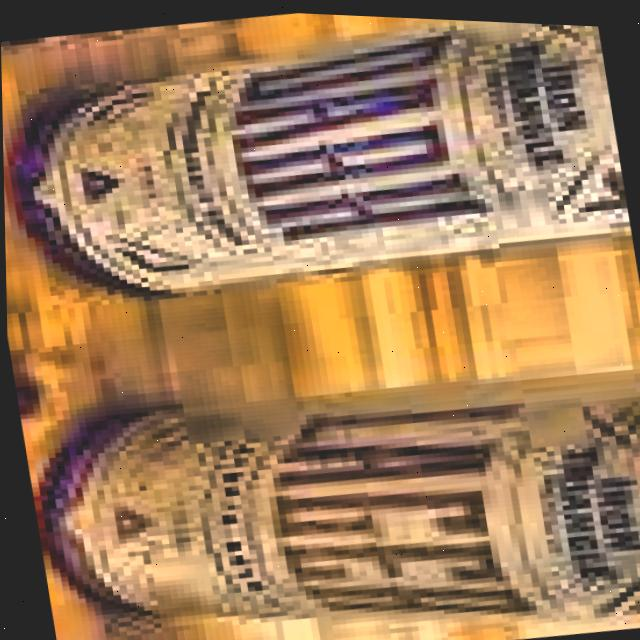metal: (0, 0, 637, 344), (15, 320, 640, 640)
